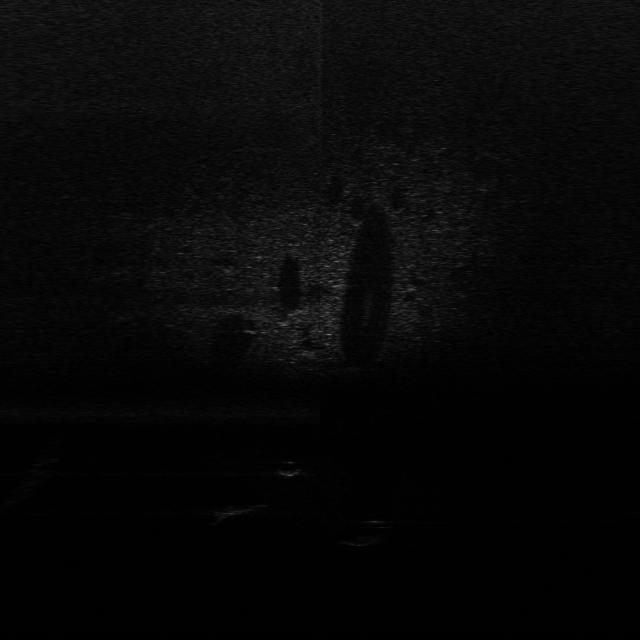ball: (273, 458, 303, 480)
square cage: (208, 500, 268, 521)
tyre: (343, 514, 396, 546)
